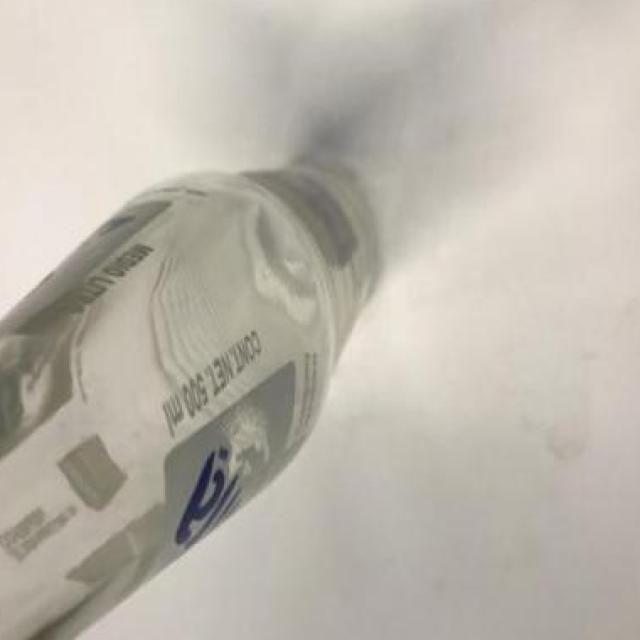kaca: (1, 167, 376, 640)
